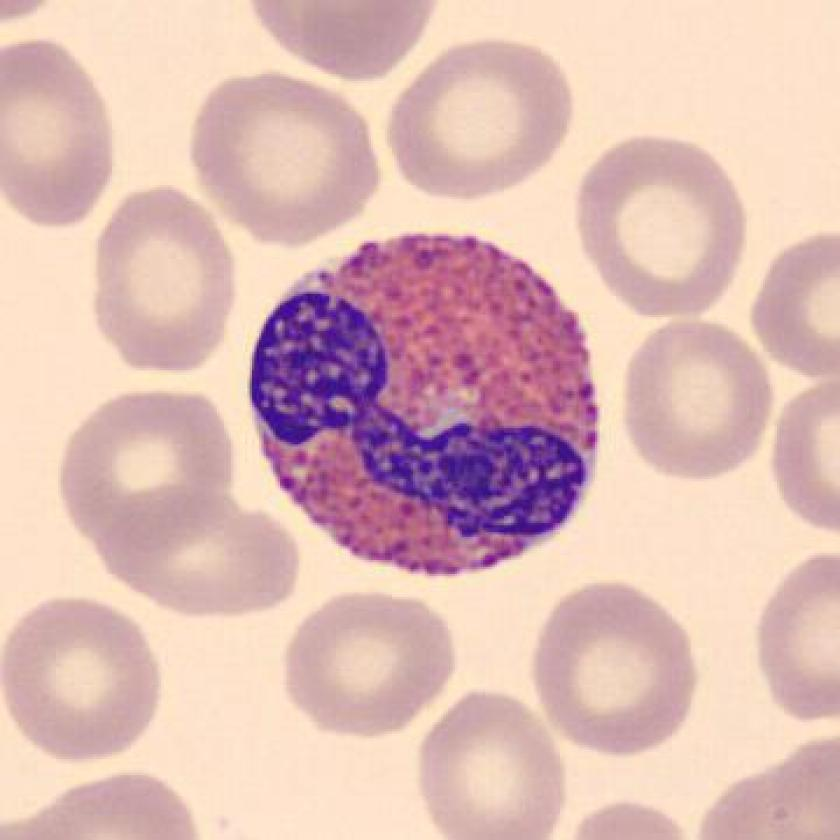eosinophil: (246, 224, 617, 594)
